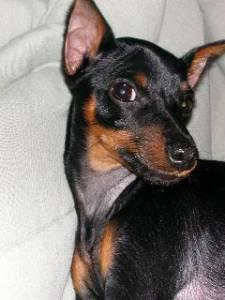dog-miniature_pinscher: (62, 0, 223, 187)
